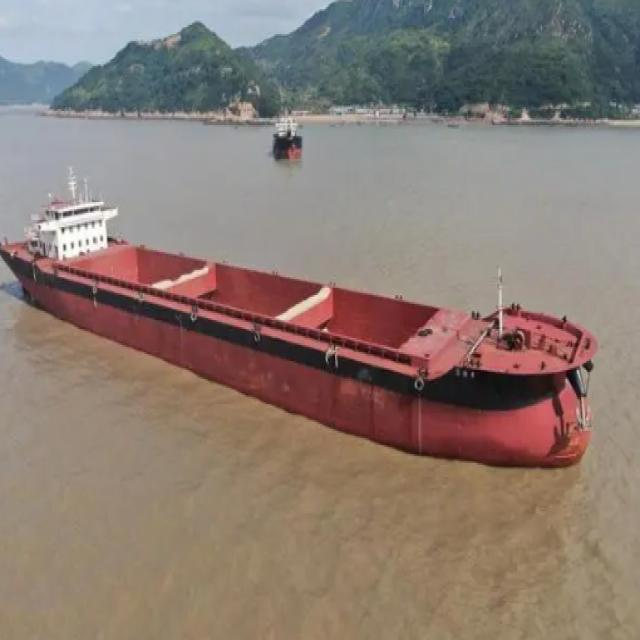cargoship: (0, 175, 596, 499), (263, 101, 309, 174)
